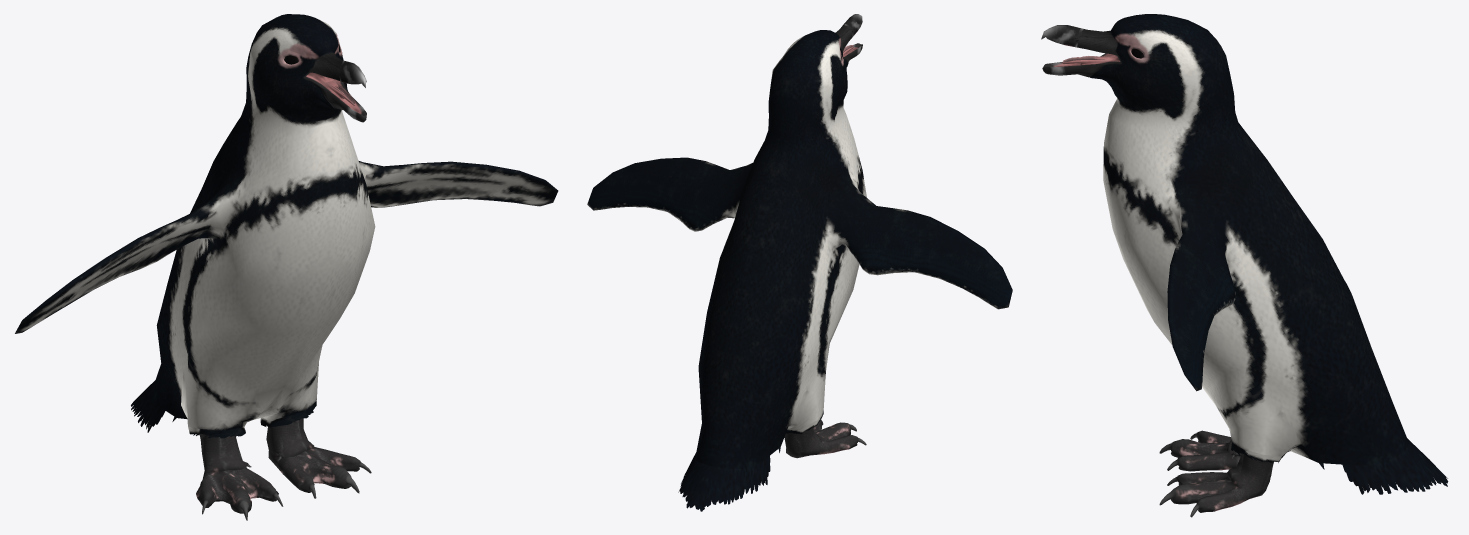
File: african-penguin--spheniscus-demersus--lo-9e5907.glb
The picture shows the model from 3 angles, left to right: view 1: azimuth 30°, elevation 25°; view 2: azimuth 150°, elevation 25°; view 3: azimuth 270°, elevation 25°; orthographic projection. The views are drawn at different scales.
Visible parts, largest first — view 1: PropMesh; view 2: PropMesh; view 3: PropMesh.
Boxes of the visible parts, x1=… form: PropMesh: x1=15, y1=14, x2=558, y2=520; PropMesh: x1=587, y1=14, x2=1012, y2=511; PropMesh: x1=1041, y1=14, x2=1448, y2=517.
Bounding box in the file's own units: 0.4492 × 0.4045 × 0.3158.
1 material, 1 textured.
